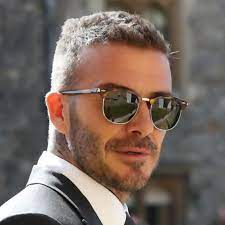g.y: (101, 83, 142, 128)
